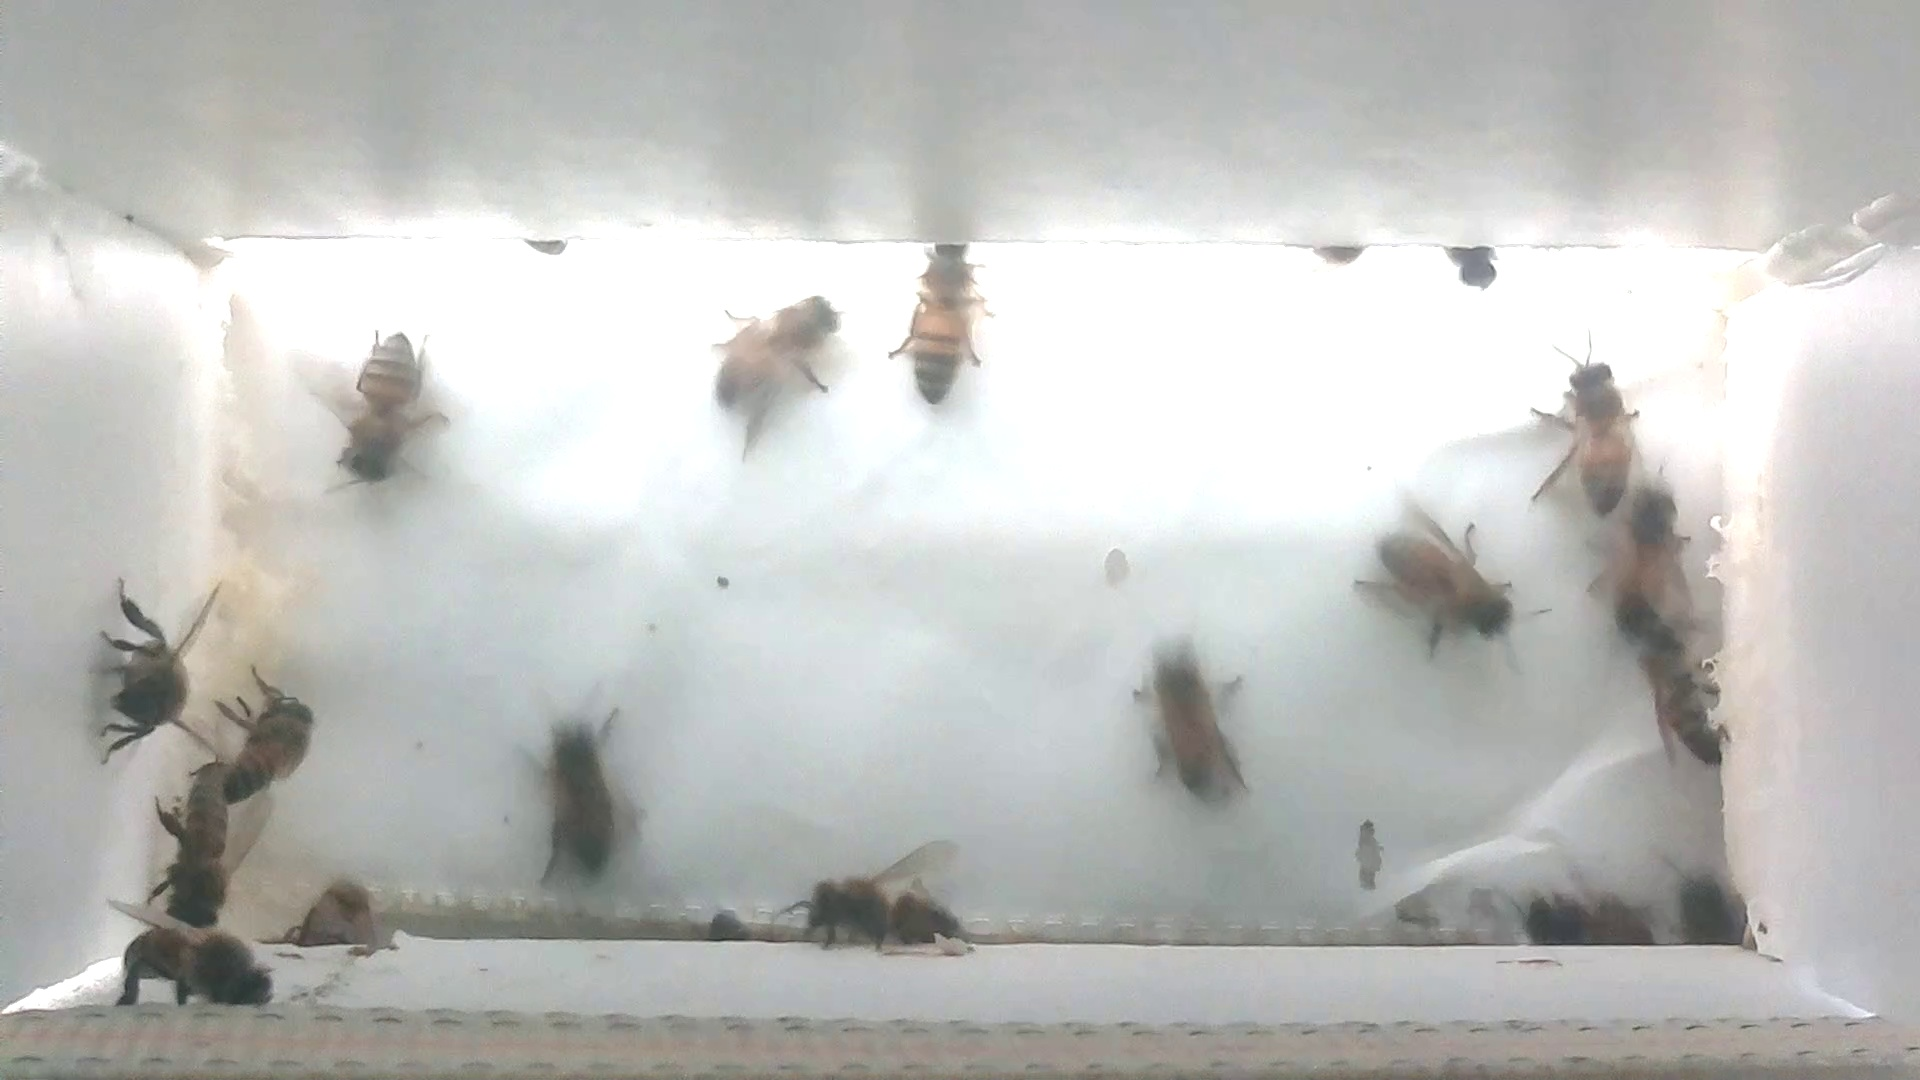bee: (1340, 483, 1551, 670), (680, 260, 861, 465), (76, 553, 224, 767), (313, 301, 456, 513), (96, 887, 290, 1029), (516, 709, 658, 895), (179, 646, 334, 814), (1523, 319, 1651, 518), (1615, 615, 1760, 781), (1129, 633, 1265, 808), (884, 229, 1007, 414), (1594, 455, 1704, 663), (794, 844, 973, 955), (145, 767, 265, 931), (1509, 862, 1664, 964)
